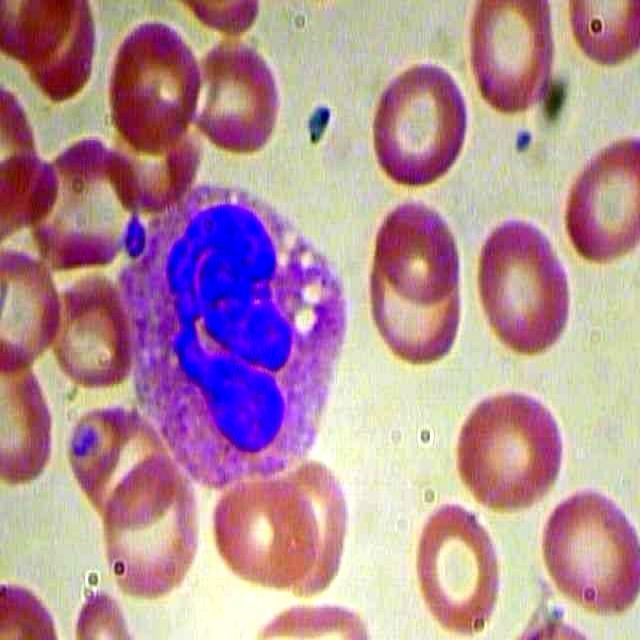RBC: (446, 370, 569, 514), (26, 125, 139, 279), (405, 494, 511, 640), (96, 460, 201, 607), (369, 53, 470, 203), (473, 208, 574, 357), (209, 469, 329, 591), (106, 13, 203, 159), (534, 485, 640, 616), (183, 36, 283, 160), (41, 268, 141, 392), (559, 129, 640, 272), (277, 457, 352, 604), (469, 1, 562, 119), (374, 191, 465, 300)
WBC: (117, 184, 361, 503)
